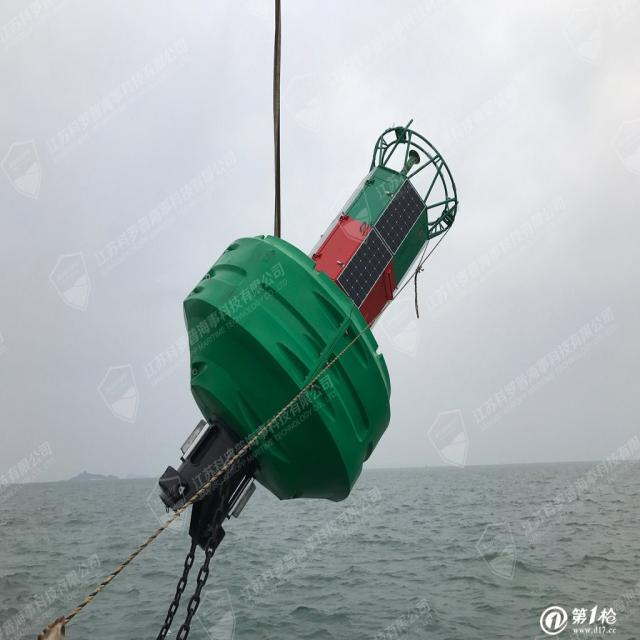buoy: (164, 114, 465, 528)
